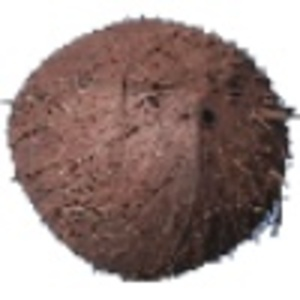coco: (7, 15, 295, 282)
